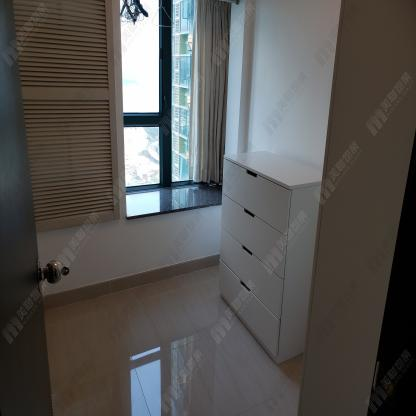Cupboard: (217, 150, 323, 366)
Windowsill: (120, 0, 257, 218)
